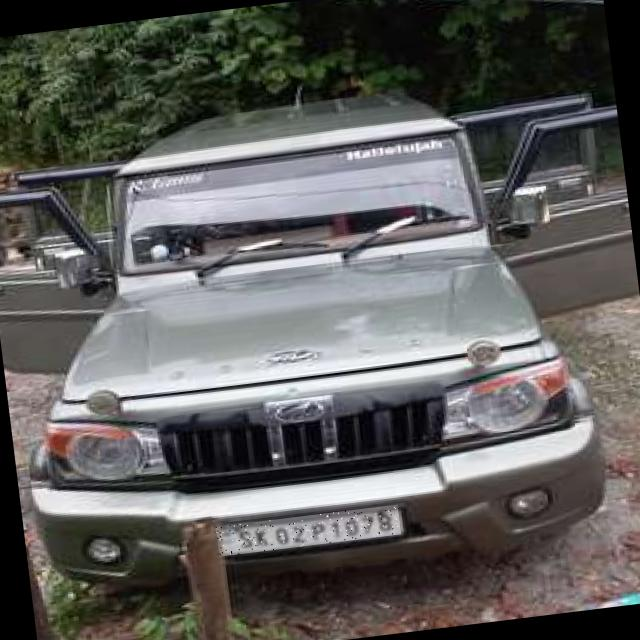Plate: (217, 505, 402, 557)
